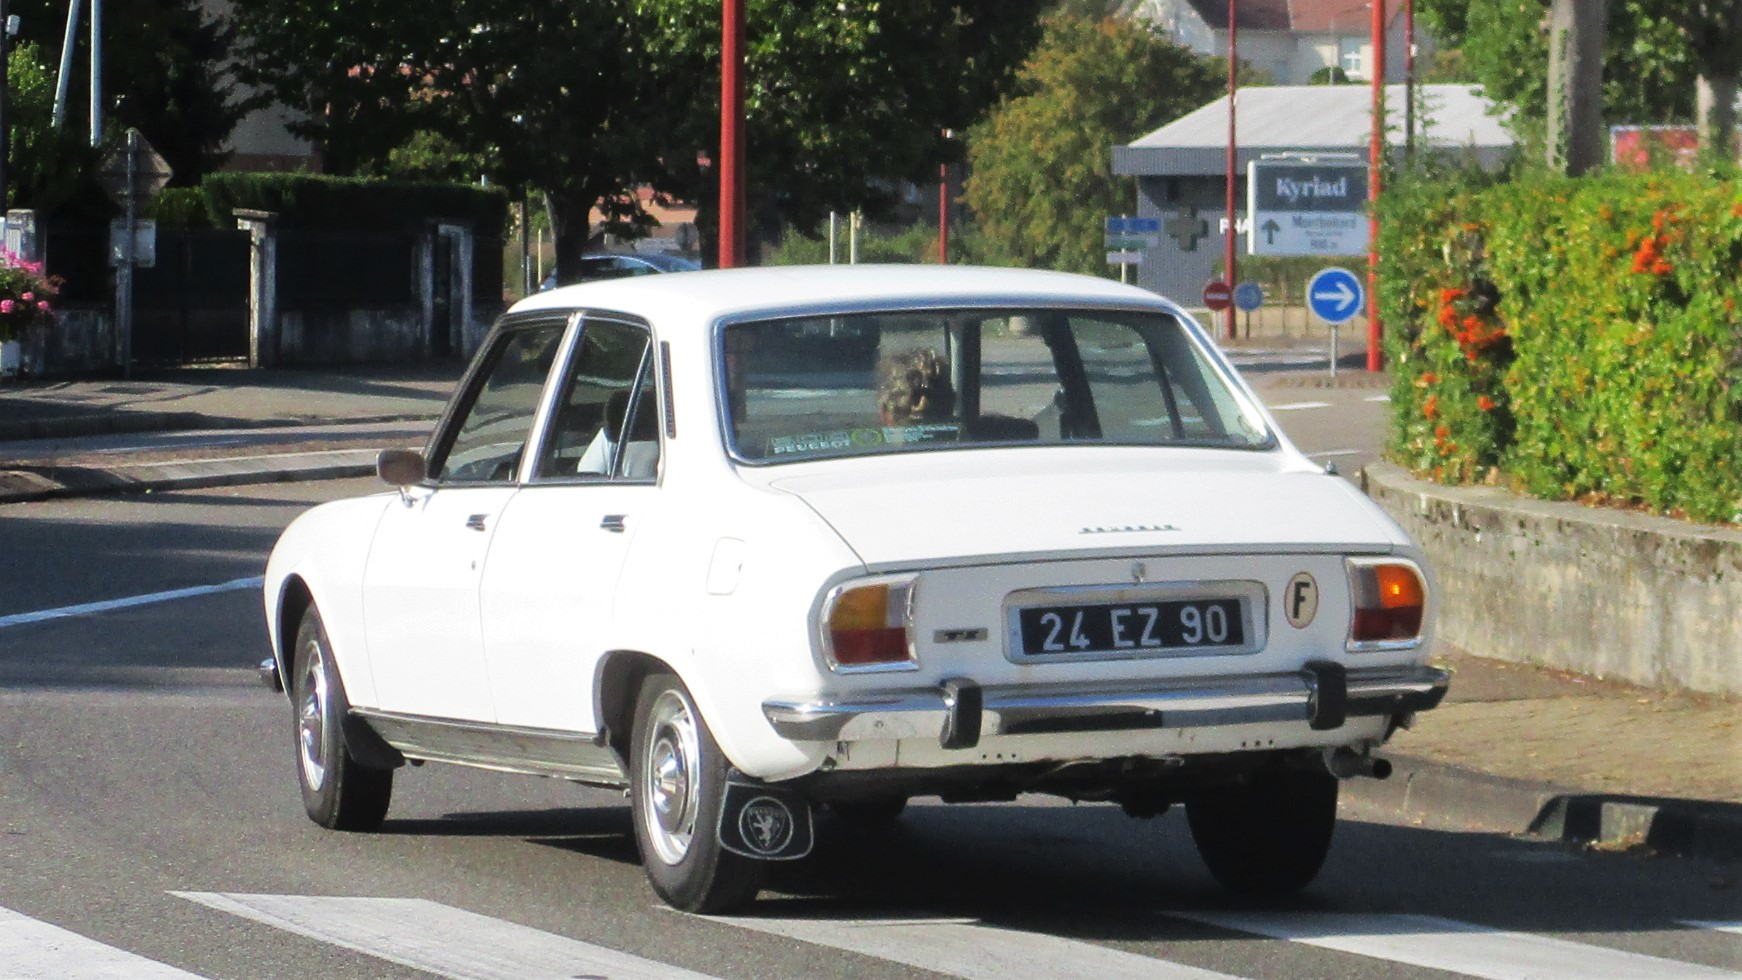licence plate: (1006, 600, 1261, 655)
